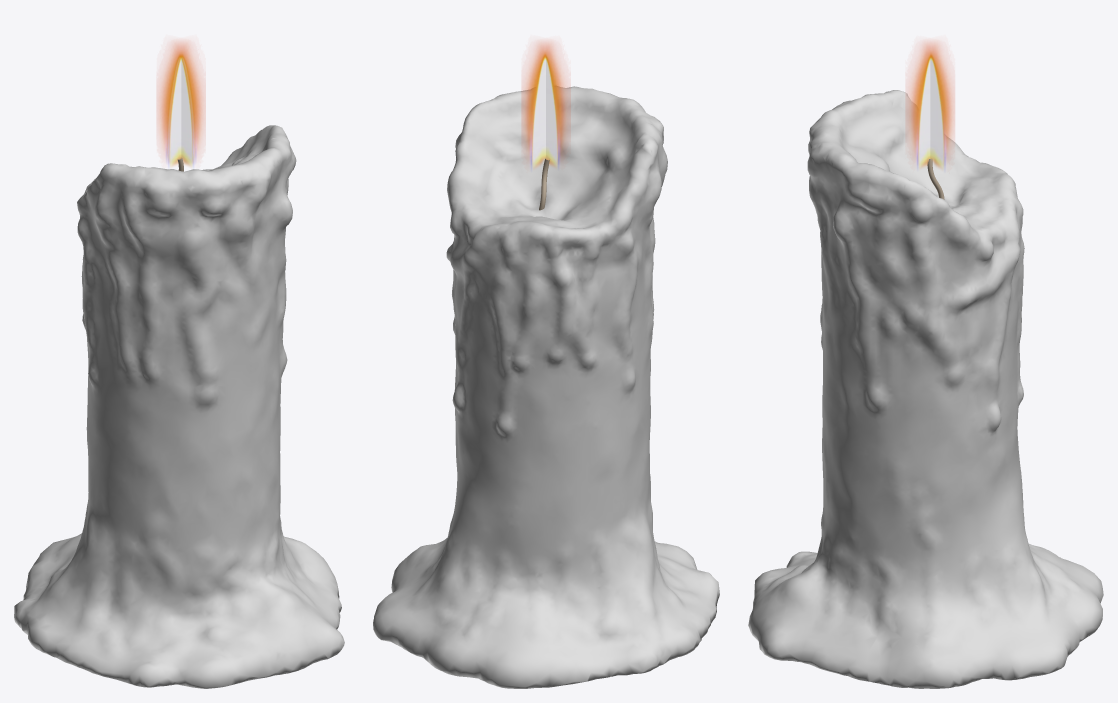
Rendered from just_a_candle.glb.
3 views of the same model, side by side, from view 1: azimuth 30°, elevation 25°; view 2: azimuth 150°, elevation 25°; view 3: azimuth 270°, elevation 25° (orthographic).
Parts seen in each view (by area): view 1: Object_4, Object_6; view 2: Object_4, Object_6; view 3: Object_4, Object_6.
Part boxes in pixels (x1=…): Object_4: x1=14, y1=125, x2=344, y2=688; Object_6: x1=157, y1=41, x2=205, y2=167; Object_4: x1=373, y1=86, x2=719, y2=688; Object_6: x1=522, y1=41, x2=570, y2=169; Object_4: x1=748, y1=90, x2=1103, y2=688; Object_6: x1=906, y1=41, x2=954, y2=170.
Bounding box in the file's own units: 3.53 × 6.74 × 3.67.
3 materials, 1 textured.
